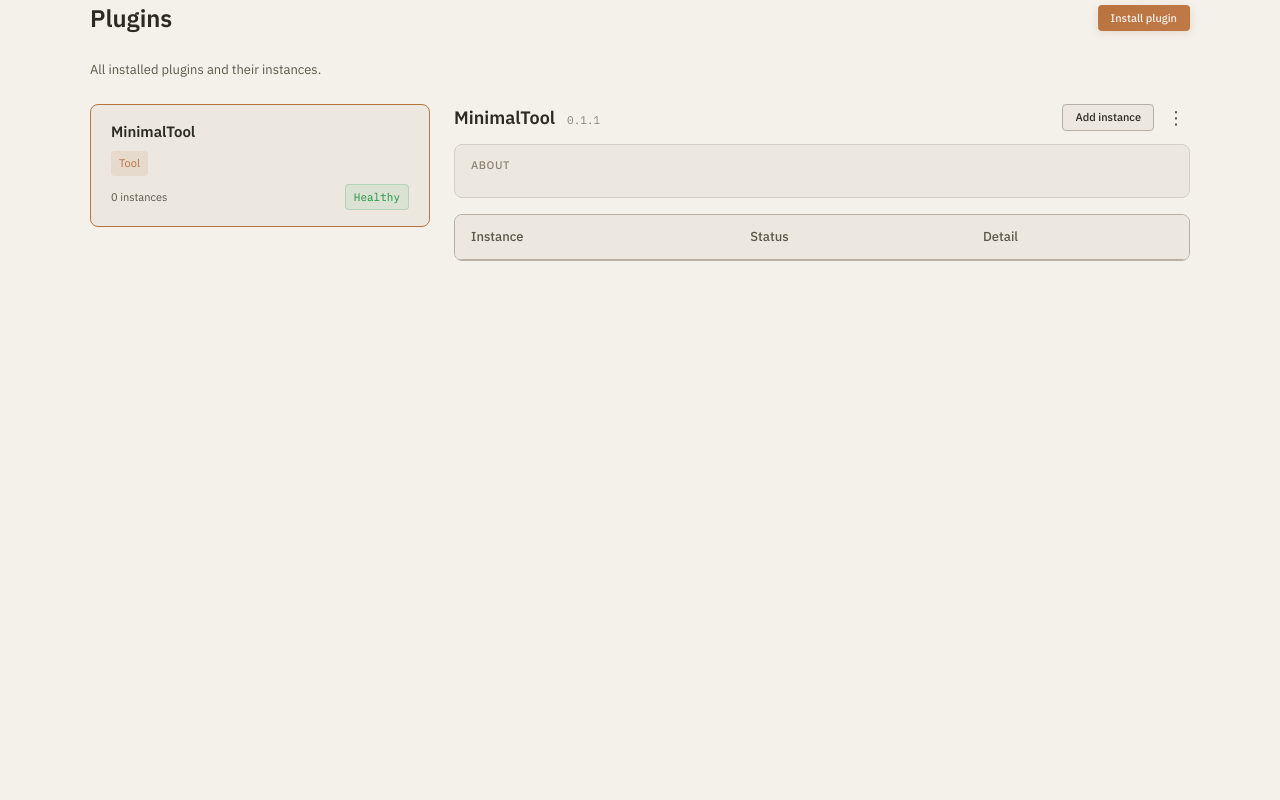
Test: AdminPluginsPage › clicking "Add instance" on a zero-instance plugin opens the modal
Click the button "Add instance". click: point(1108, 118)
box: [1062, 104, 1154, 131]
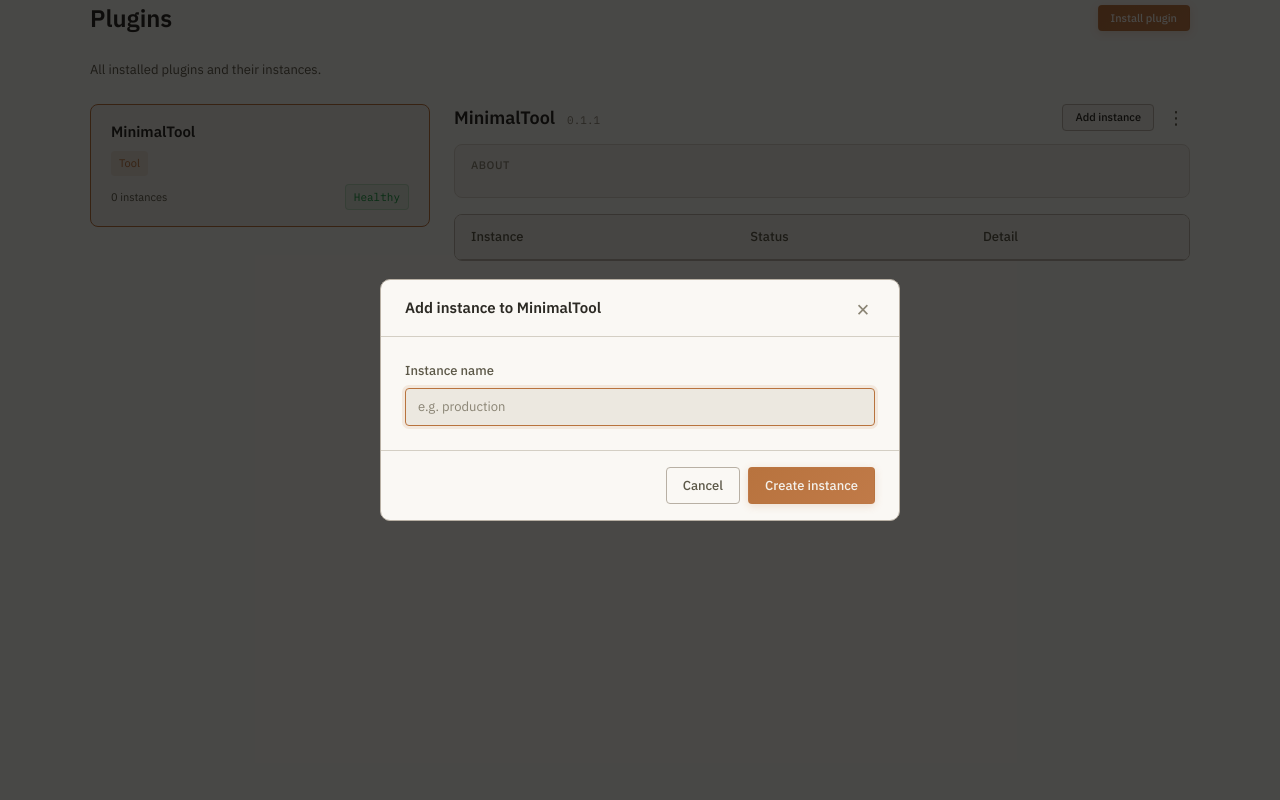
Check: the dialog is shown, box [380, 279, 900, 521]
Check: the heading "Add instance to MinimalTool" is shown, box [405, 296, 601, 319]
